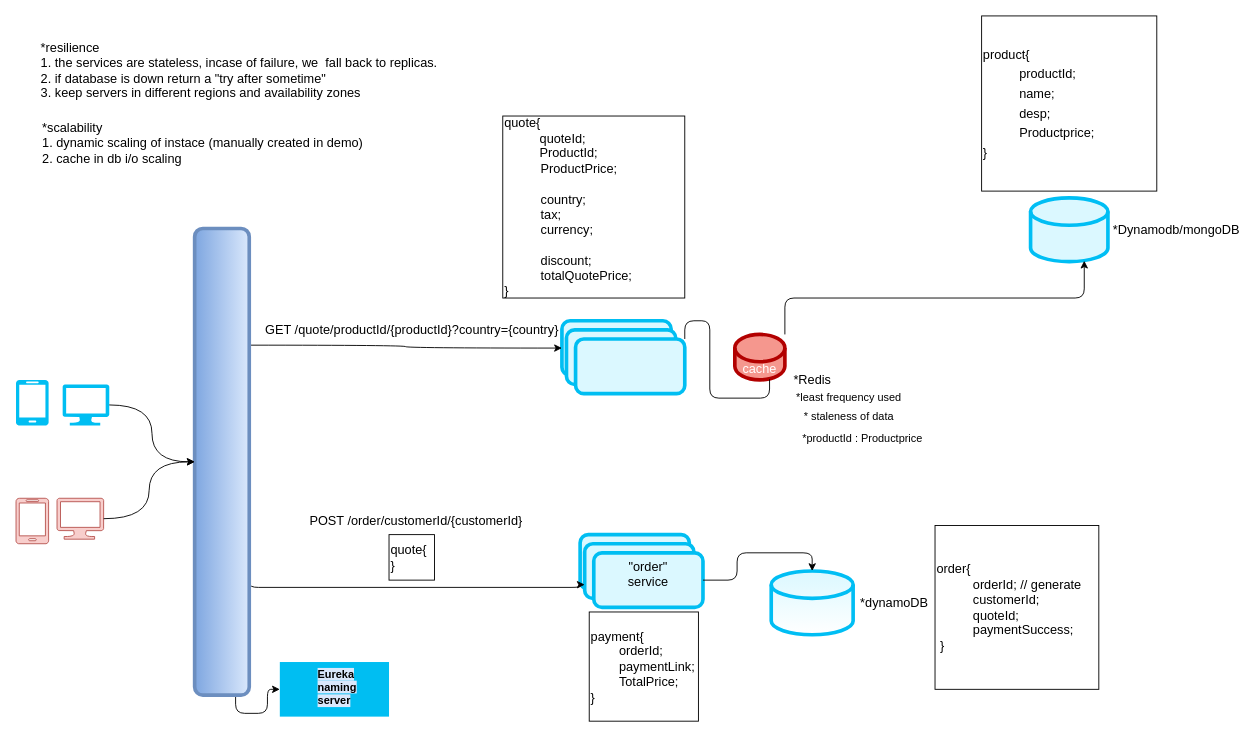
Image size: 1260x737. Some labels were removed from this diagram. The centre of each missing label's shape, as x and y in pixels:
"quote" service: (x=629, y=366)
LOAD BALANCER / API GATEWAY spring cloud loadbalancer api gateway: (x=221, y=461)
order record: (x=811, y=602)
product db: (x=1068, y=229)
